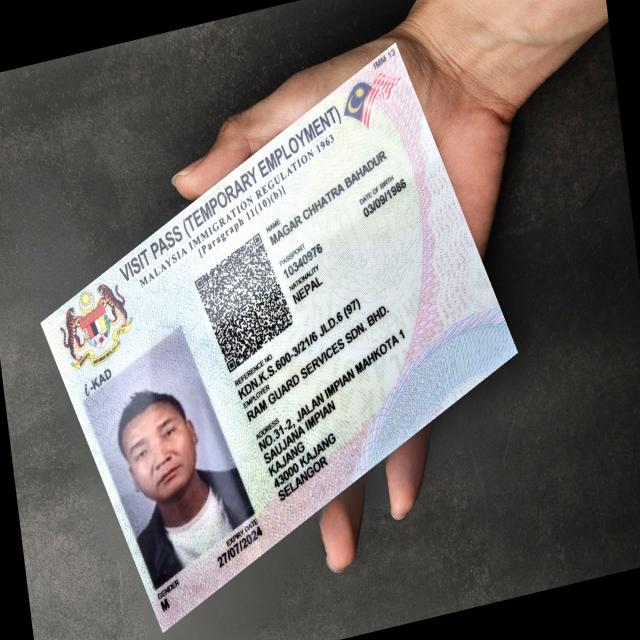ikad-temp: (39, 40, 518, 633)
